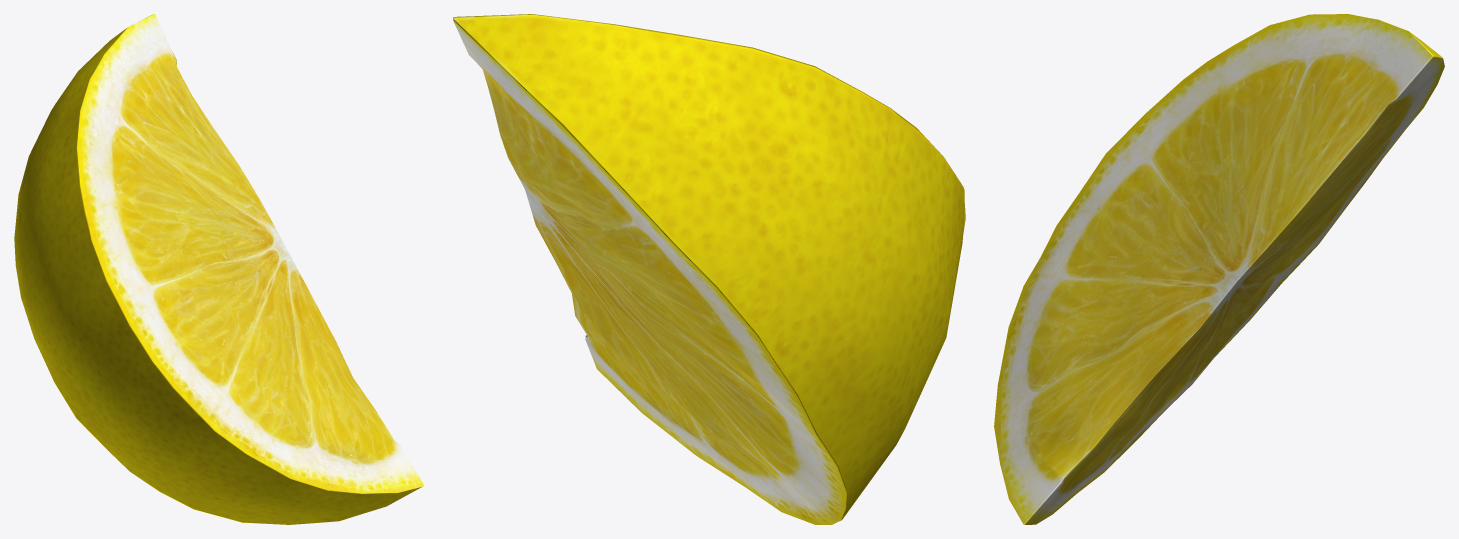
Rendered from Lemon_Fuze_01.glb.
3 views of the same model, side by side, from view 1: azimuth 30°, elevation 25°; view 2: azimuth 150°, elevation 25°; view 3: azimuth 270°, elevation 25° (orthographic). The views are drawn at different scales.
Visible parts, largest first — view 1: Lemon_Wedge001; view 2: Lemon_Wedge001; view 3: Lemon_Wedge001.
Part boxes in pixels (x1,y1,x2,y2): Lemon_Wedge001: (14,14,424,524); Lemon_Wedge001: (453,14,965,524); Lemon_Wedge001: (994,14,1444,524).
Bounding box in the file's own units: 0.0356 × 0.0482 × 0.0434.
Materials: 1 (1 with a texture image).
